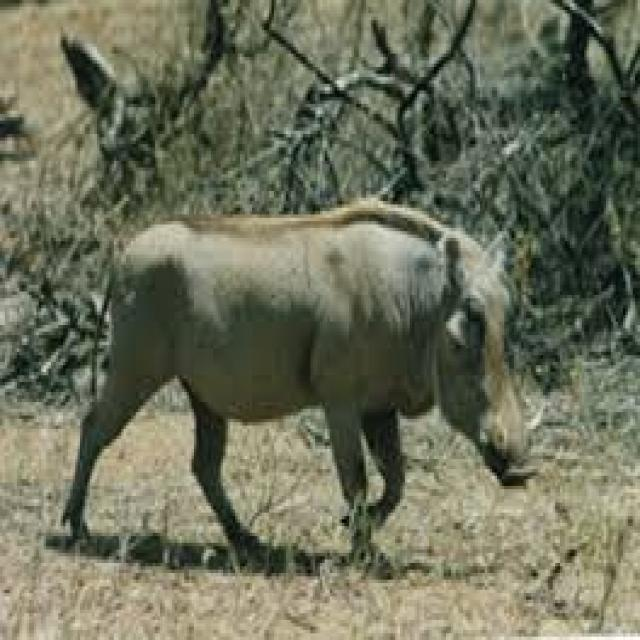boar: (66, 154, 564, 635)
